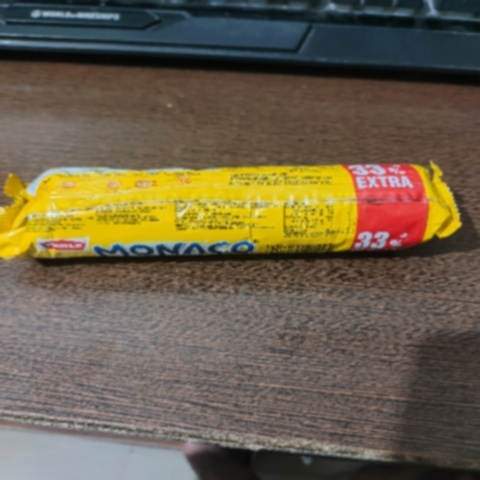monaco: (10, 104, 464, 339)
